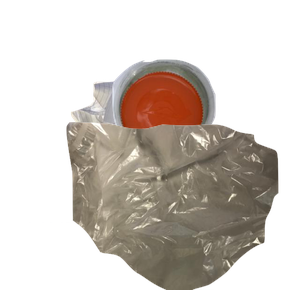glass: (29, 120, 242, 300)
paper: (68, 66, 215, 197)
plastic: (110, 57, 300, 205)
trash: (64, 120, 300, 300)
